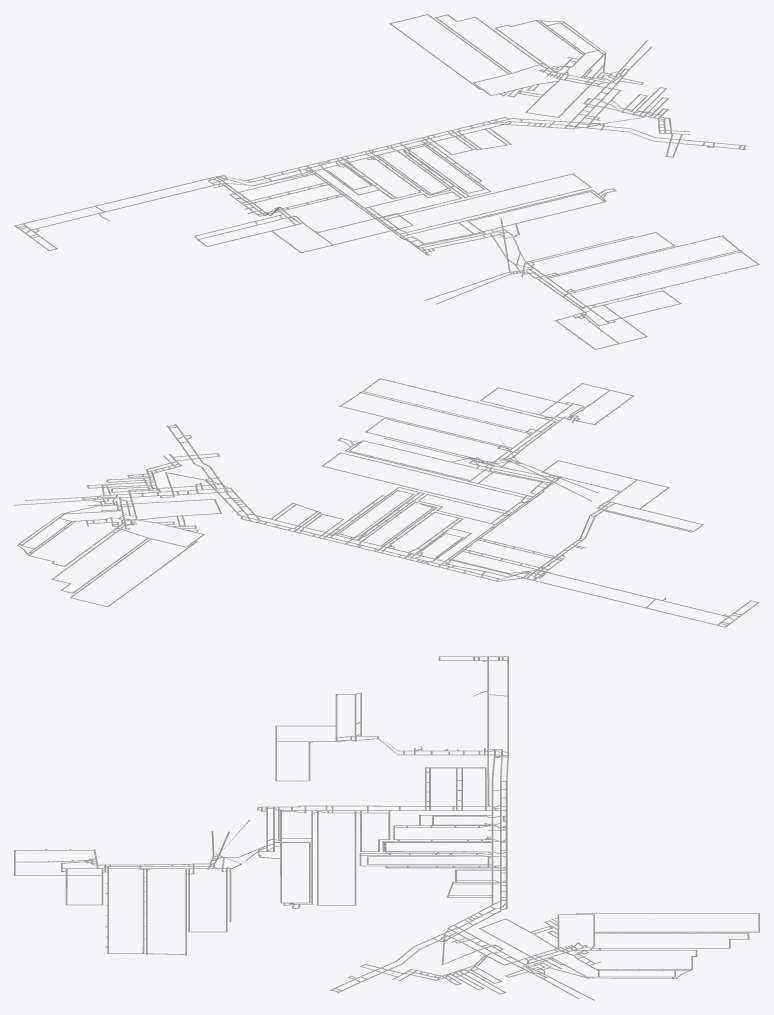
3 renders of one model, top to bottom at view 1: azimuth 30°, elevation 25°; view 2: azimuth 150°, elevation 25°; view 3: azimuth 270°, elevation 25°, orthographic. The views are drawn at different scales.
Parts seen in each view (by area): view 1: LX; view 2: LX; view 3: LX.
Part boxes in pixels (x1=…): LX: x1=14, y1=14, x2=759, y2=349; LX: x1=14, y1=378, x2=759, y2=627; LX: x1=14, y1=656, x2=759, y2=1000.
Size of the model in its own units: 708 by 56.91 by 669.
1 material, 1 textured.
